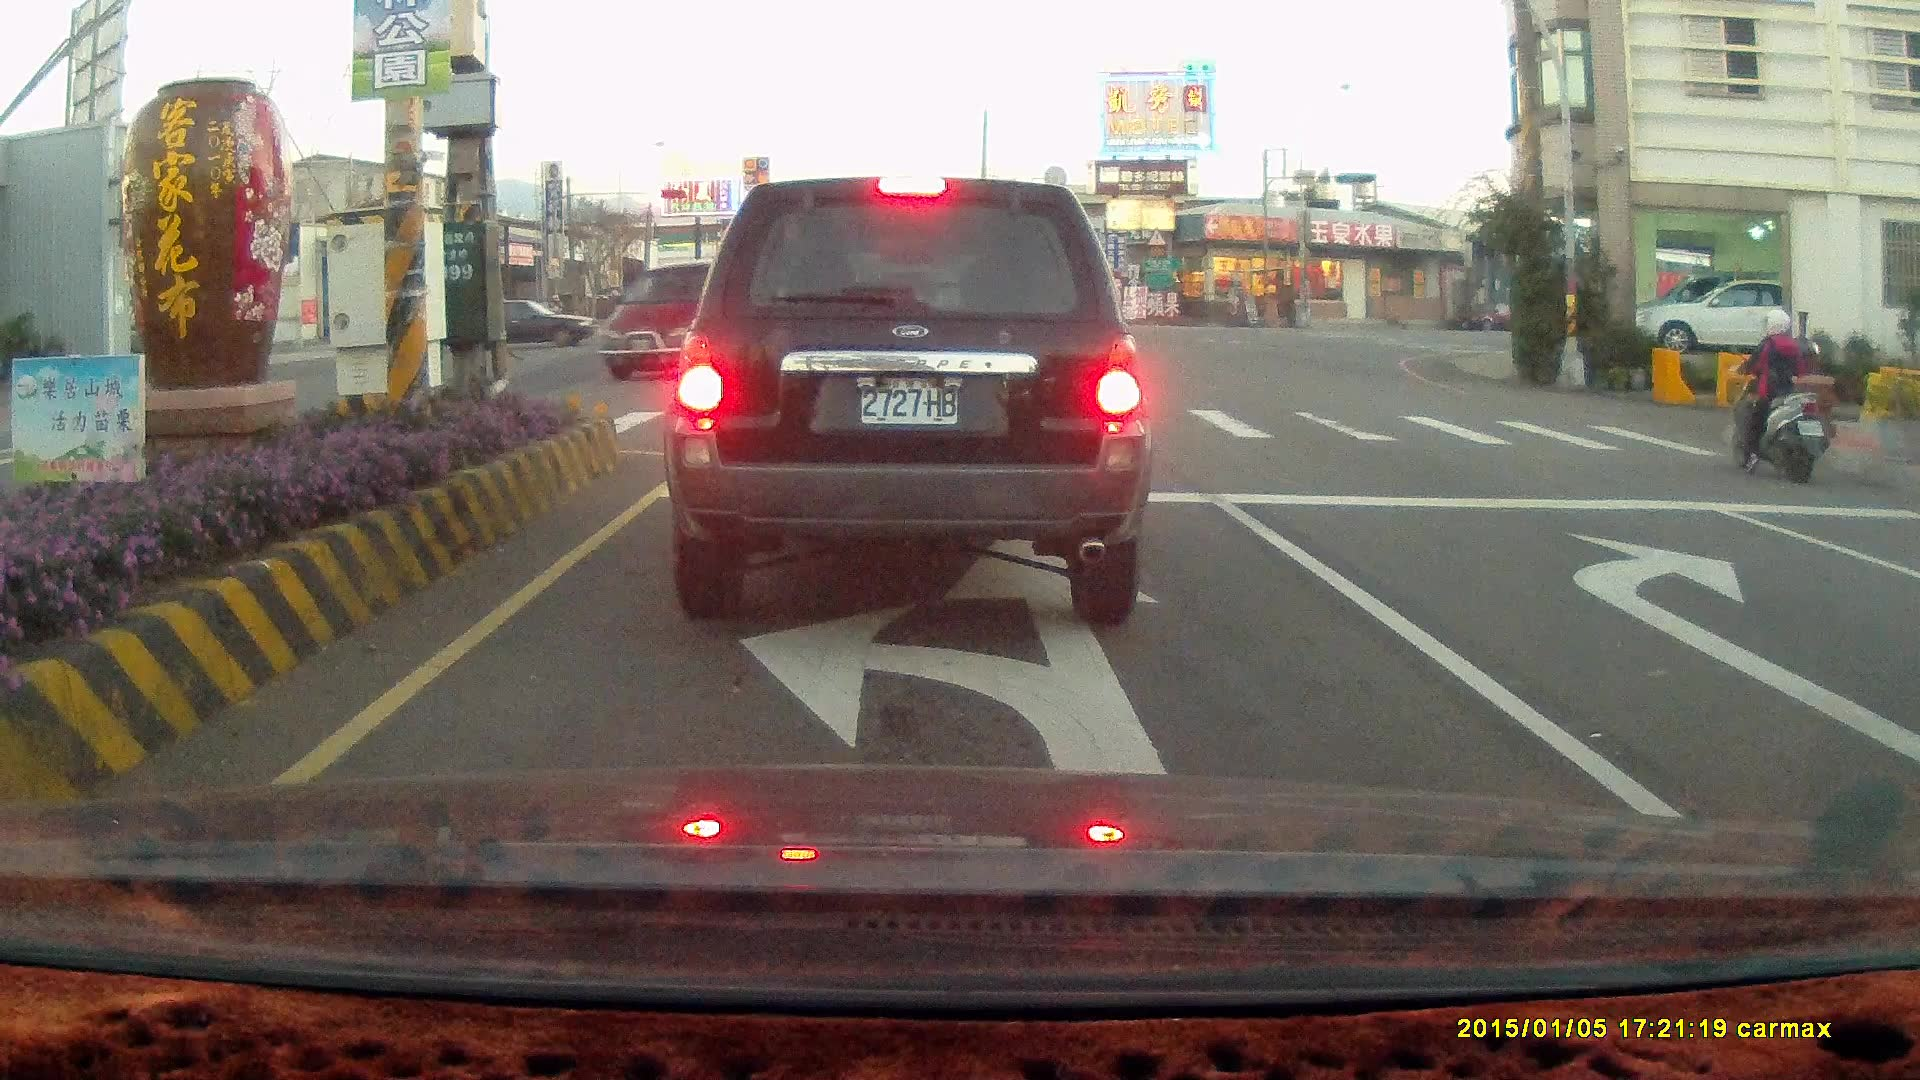rider: (1725, 307, 1826, 480)
vehicle: (662, 174, 1153, 628), (606, 255, 826, 384), (598, 258, 818, 381), (856, 257, 1027, 364), (1621, 274, 1826, 354), (1642, 275, 1784, 356), (1896, 493, 1920, 836), (1883, 528, 1920, 690)
